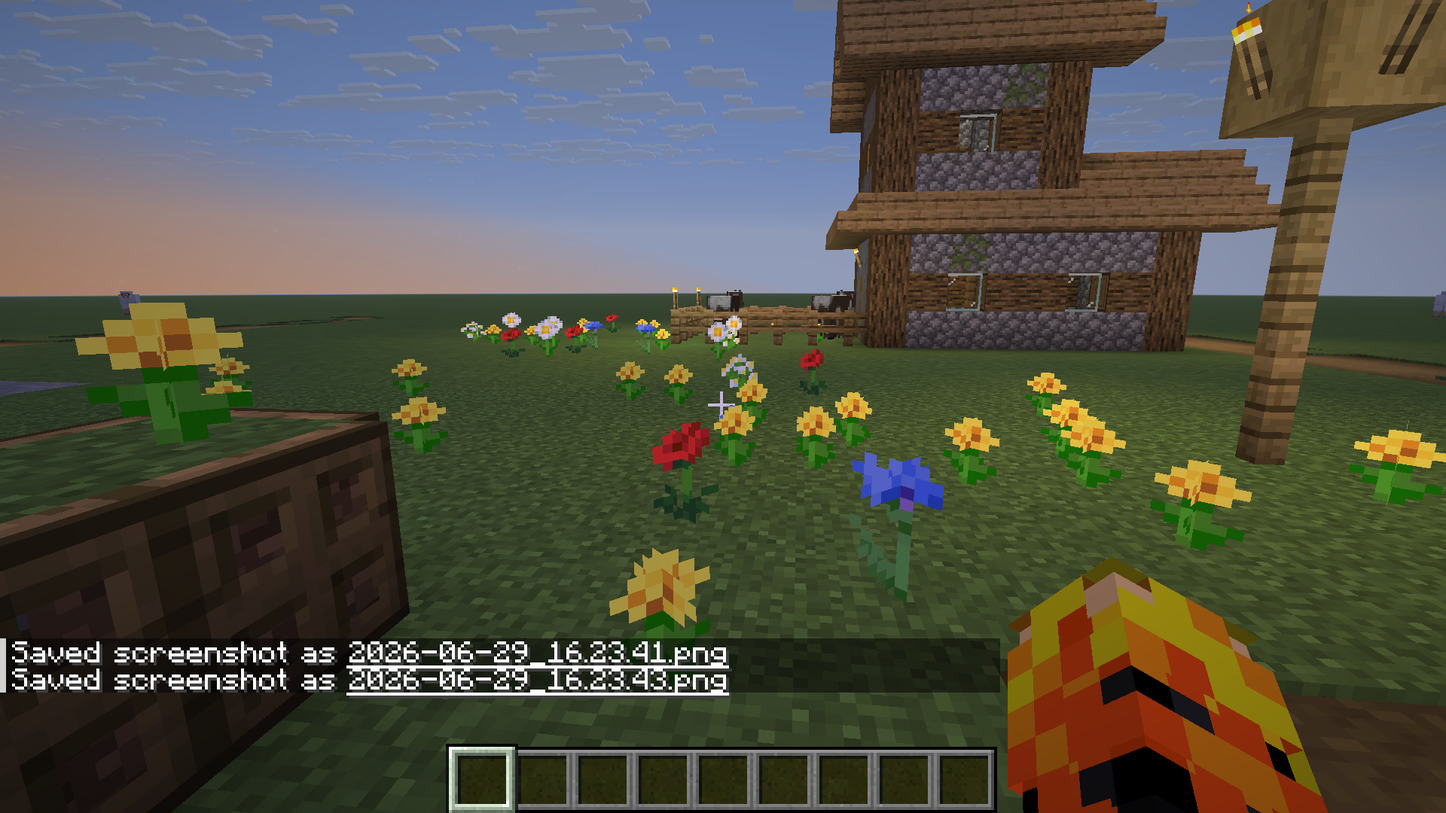Torch: (1217, 17, 1303, 123)
cow: (813, 283, 853, 345)
flower: (87, 297, 264, 453), (847, 450, 946, 626), (643, 419, 722, 526), (387, 398, 466, 460), (797, 341, 843, 397), (717, 350, 766, 399), (532, 313, 566, 364), (703, 313, 729, 347)
